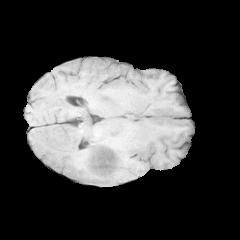glioma: (78, 143, 124, 180)
